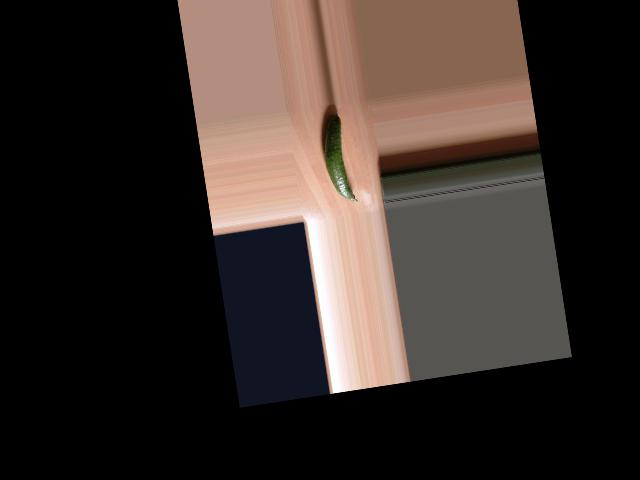cucumber: (317, 111, 357, 206)
